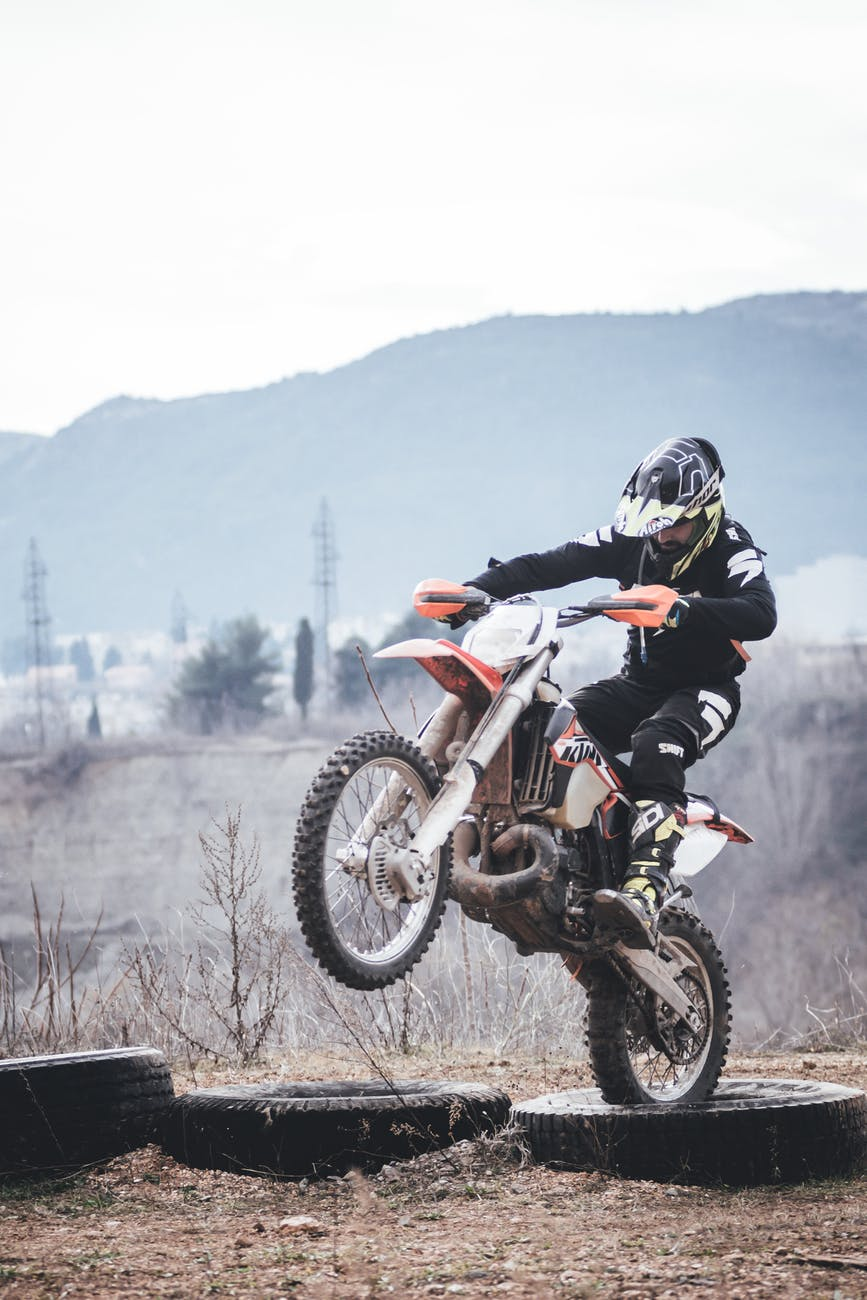helmet: (624, 437, 736, 589)
